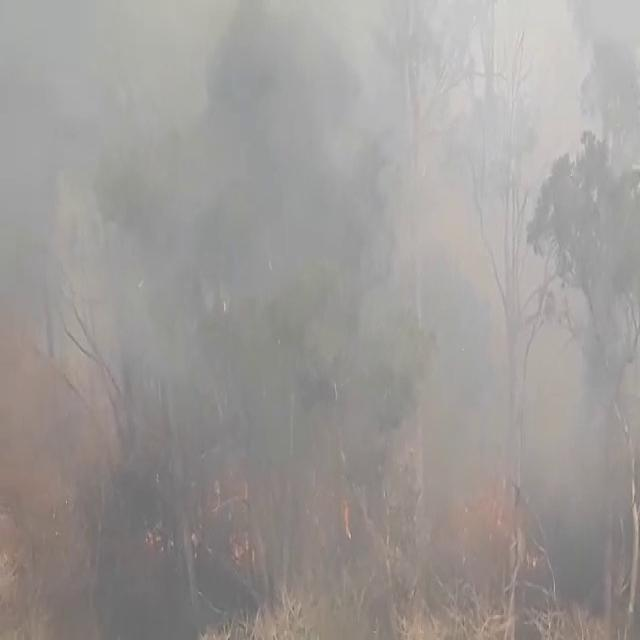Fire: (5, 9, 639, 631)
